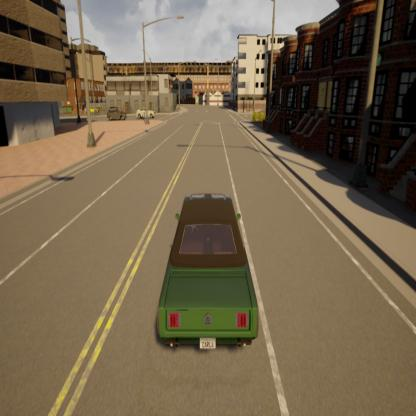Cars: (140, 177, 266, 369), (102, 103, 130, 121), (136, 102, 157, 118)
